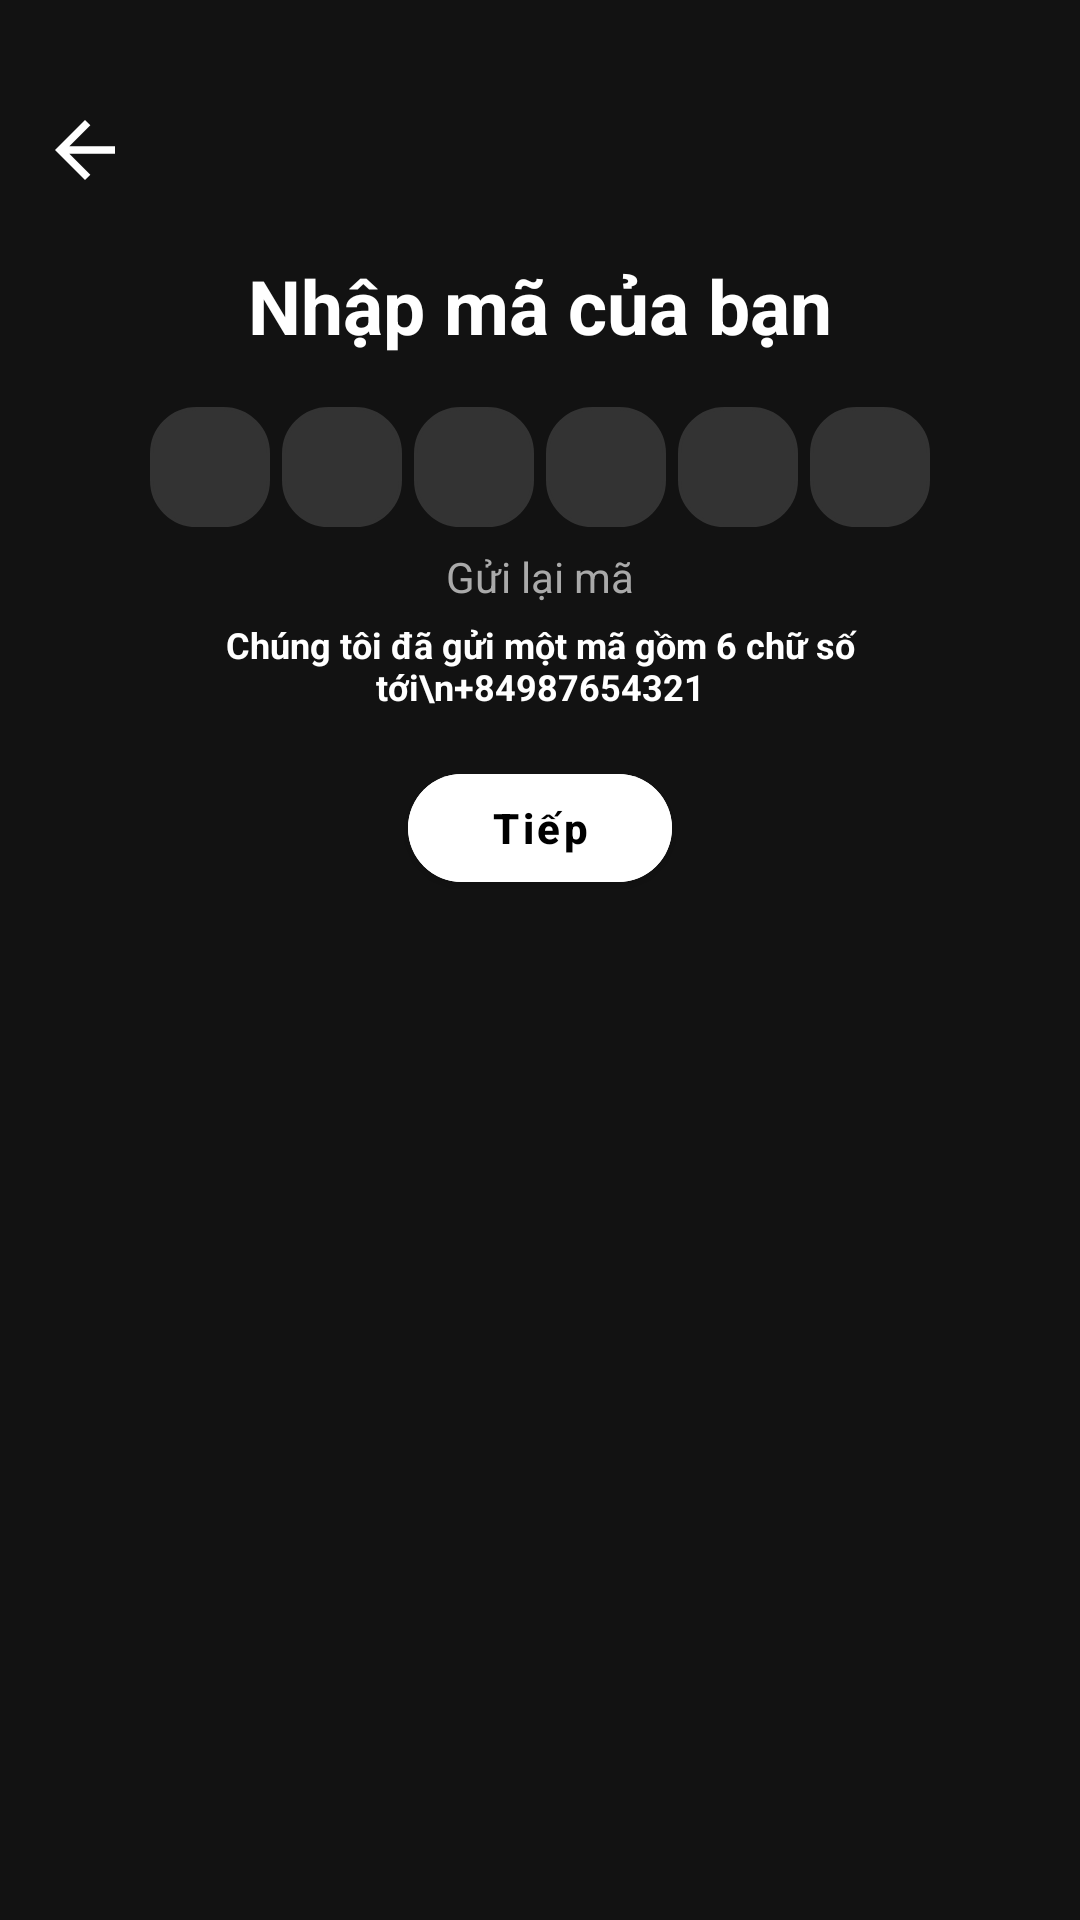

Icon click points for this 1080 × 1920 phone screenshot, format [x,y]:
arrow back: [85,150]
